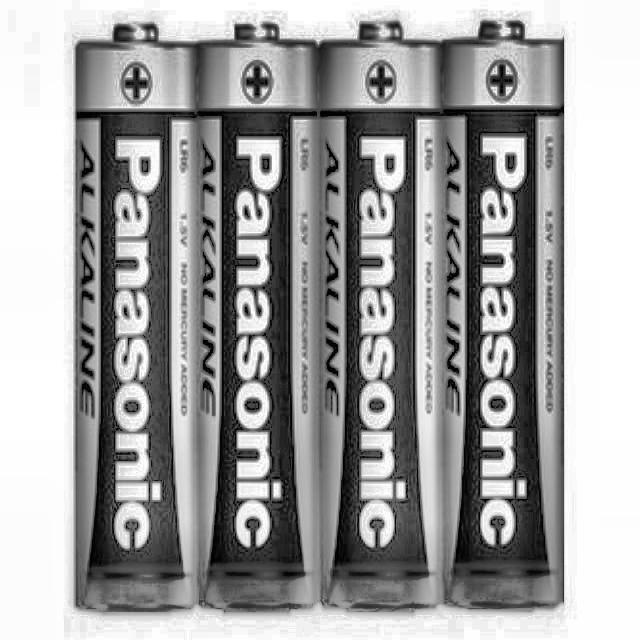drycell: (67, 20, 198, 621), (437, 18, 567, 619), (194, 21, 323, 612), (319, 19, 446, 612)
